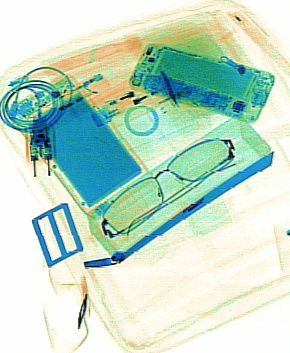lighter: (88, 70, 187, 127), (22, 71, 109, 129), (101, 71, 191, 127)
